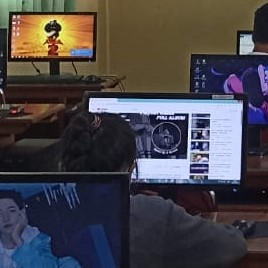monitor: (82, 92, 249, 192), (1, 172, 131, 265), (189, 54, 267, 125), (7, 12, 97, 63), (236, 29, 268, 55)
